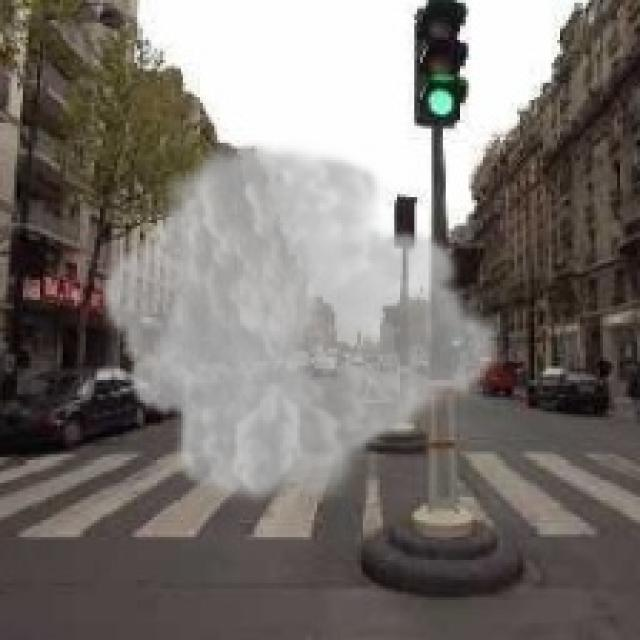smoke: (97, 134, 509, 512)
